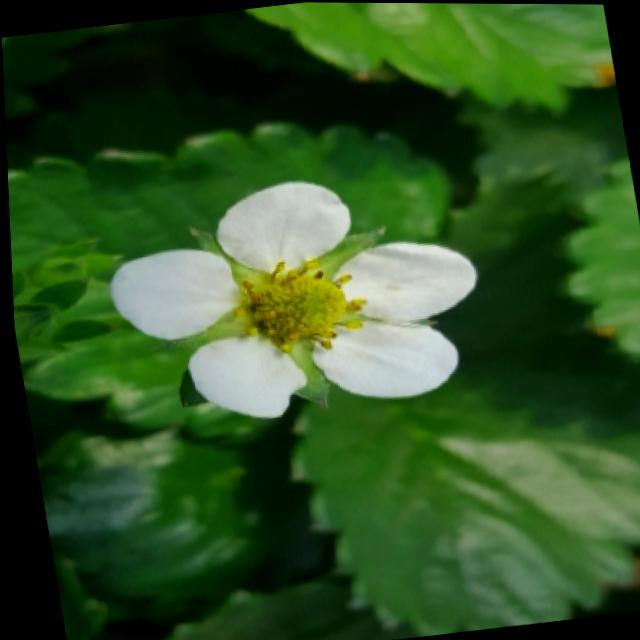Blossom Blight: (224, 249, 368, 360)
